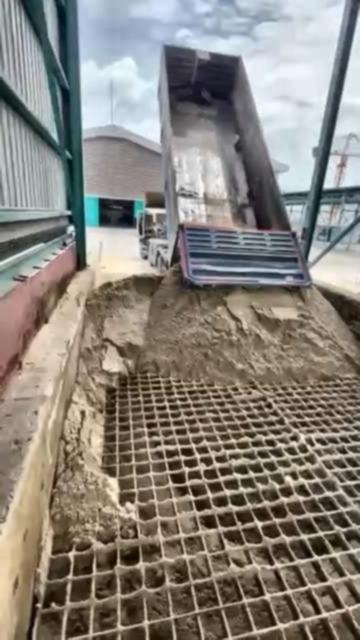sand: (52, 268, 360, 547)
